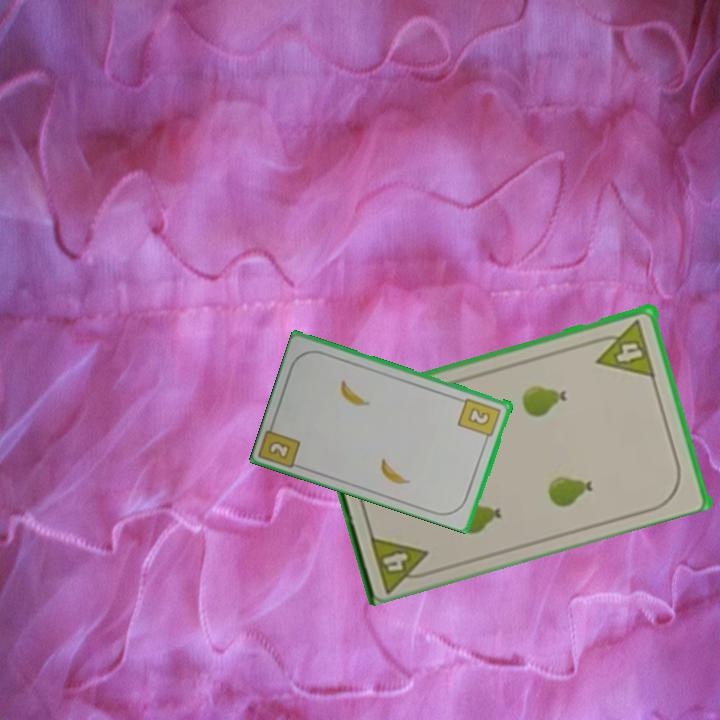2b: (455, 394, 504, 445), (265, 437, 294, 462)
4p: (366, 529, 437, 593), (589, 315, 658, 379)
